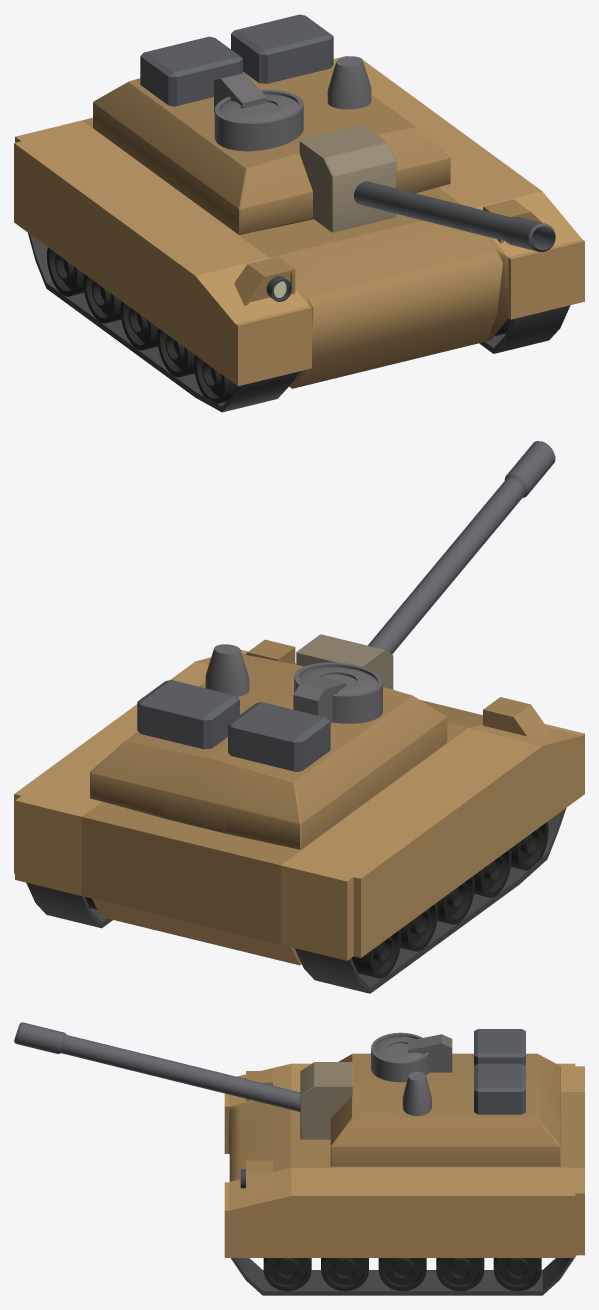
Rendered from Military_Tank.fbx.
The picture shows the model from 3 angles, top to bottom: view 1: azimuth 30°, elevation 25°; view 2: azimuth 150°, elevation 25°; view 3: azimuth 270°, elevation 25°; orthographic projection. The views are drawn at different scales.
Visible parts, largest first — view 1: Cube.001, Cube.003, Cube.004, Cube.002, Cylinder, Cylinder.001, Cube.005; view 2: Cube.001, Cube.003, Cube.004, Cube.002, Cylinder.001, Cylinder, Cube.005; view 3: Cube.001, Cube.003, Cube.004, Cylinder.001, Cube.002, Cylinder, Cube.005.
Part boxes in pixels (x1,y1,x2,y2): Cube.001: [14, 55, 584, 388]; Cube.003: [93, 66, 450, 234]; Cube.004: [28, 233, 570, 412]; Cube.002: [140, 14, 333, 106]; Cylinder: [214, 56, 371, 151]; Cylinder.001: [354, 181, 555, 251]; Cube.005: [234, 199, 542, 305]; Cube.001: [14, 650, 584, 965]; Cube.003: [90, 634, 447, 849]; Cube.004: [26, 808, 566, 993]; Cube.002: [137, 680, 330, 771]; Cylinder.001: [368, 441, 555, 654]; Cylinder: [205, 644, 382, 723]; Cube.005: [245, 639, 550, 736]; Cube.001: [224, 1063, 584, 1257]; Cube.003: [300, 1053, 560, 1166]; Cube.004: [231, 1255, 576, 1295]; Cylinder.001: [14, 1022, 300, 1111]; Cube.002: [474, 1029, 525, 1114]; Cylinder: [371, 1032, 452, 1115]; Cube.005: [240, 1071, 272, 1198].
Size of the model in its own units: 1200 by 889 by 2187.
